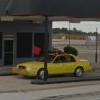Car: (11, 47, 94, 83)
